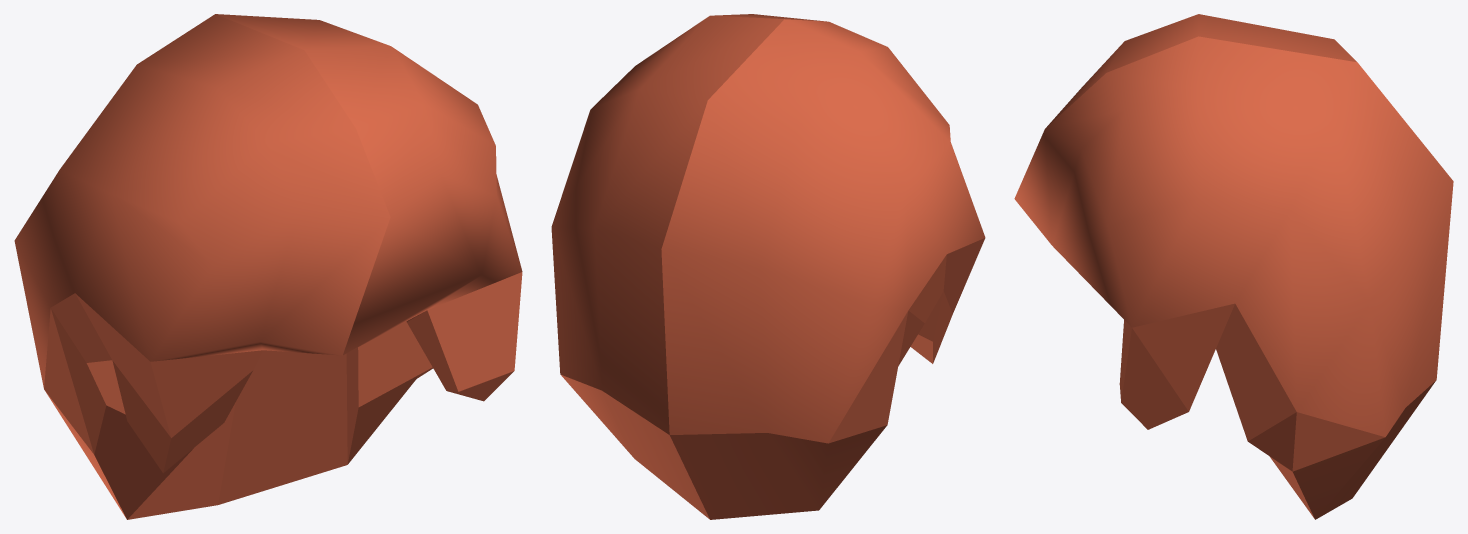
The model's file is HairMediumGinger.fbx.
3 renders of one model, left to right at view 1: azimuth 30°, elevation 25°; view 2: azimuth 150°, elevation 25°; view 3: azimuth 270°, elevation 25°, orthographic. The views are drawn at different scales.
Visible parts, largest first — view 1: HairMediumGinger; view 2: HairMediumGinger; view 3: HairMediumGinger.
Part boxes in pixels (box(x1,y1,x2,y2)): HairMediumGinger: box(14, 14, 522, 519); HairMediumGinger: box(551, 14, 985, 519); HairMediumGinger: box(1014, 14, 1453, 519).
Size of the model in its own units: 54.2 by 67.38 by 58.05.
